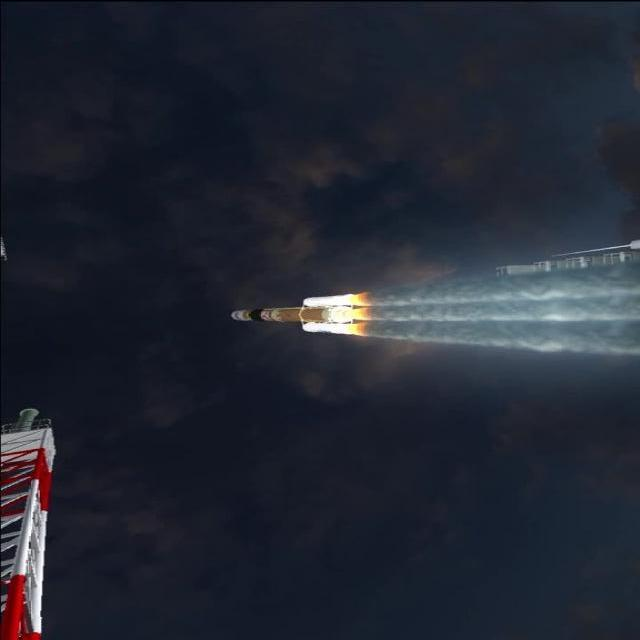missile: (230, 306, 367, 325), (298, 290, 370, 306), (302, 318, 366, 336)
